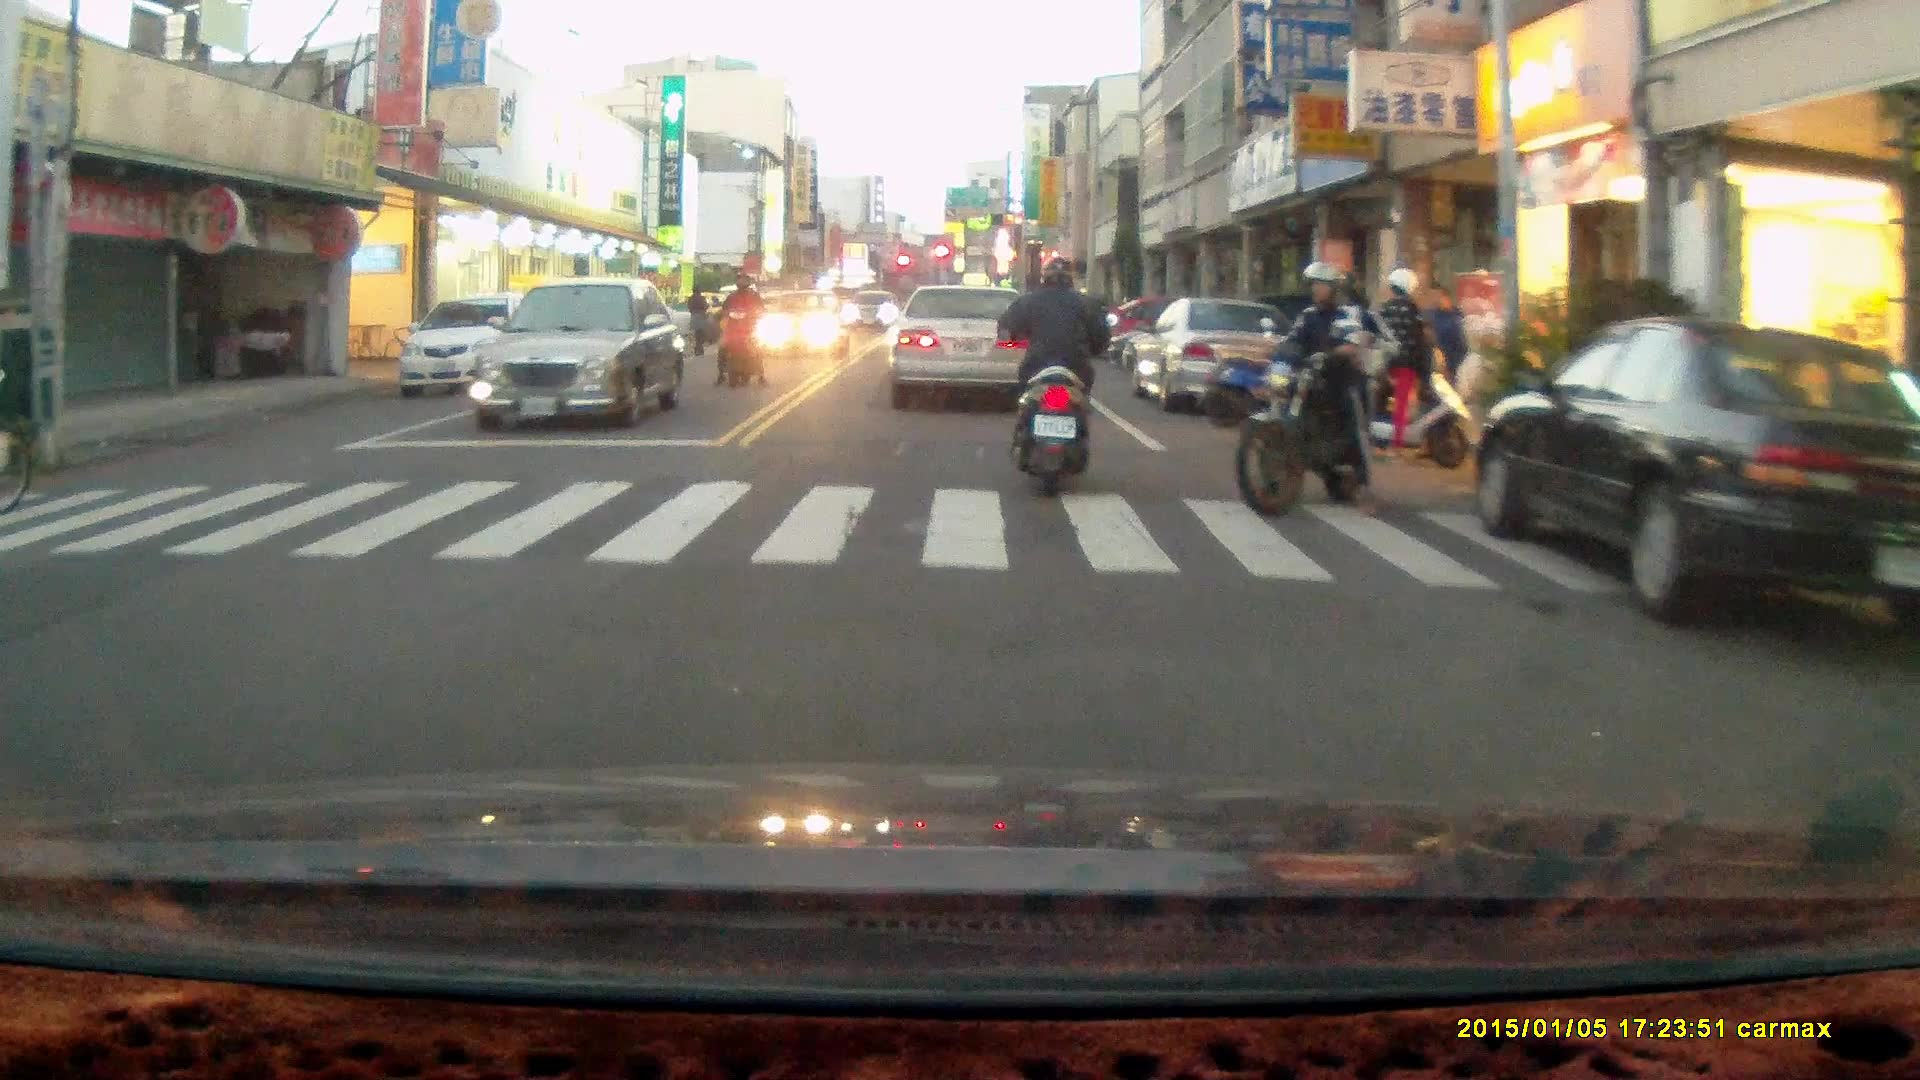pedestrian: (1374, 267, 1430, 453), (1418, 281, 1468, 436), (683, 281, 710, 355)
rider: (1234, 255, 1428, 516), (998, 248, 1116, 496), (713, 265, 770, 390)
vehicle: (1481, 317, 1920, 629), (475, 277, 689, 432), (1127, 299, 1304, 413), (885, 286, 1040, 414), (397, 290, 556, 404), (752, 288, 848, 363)
